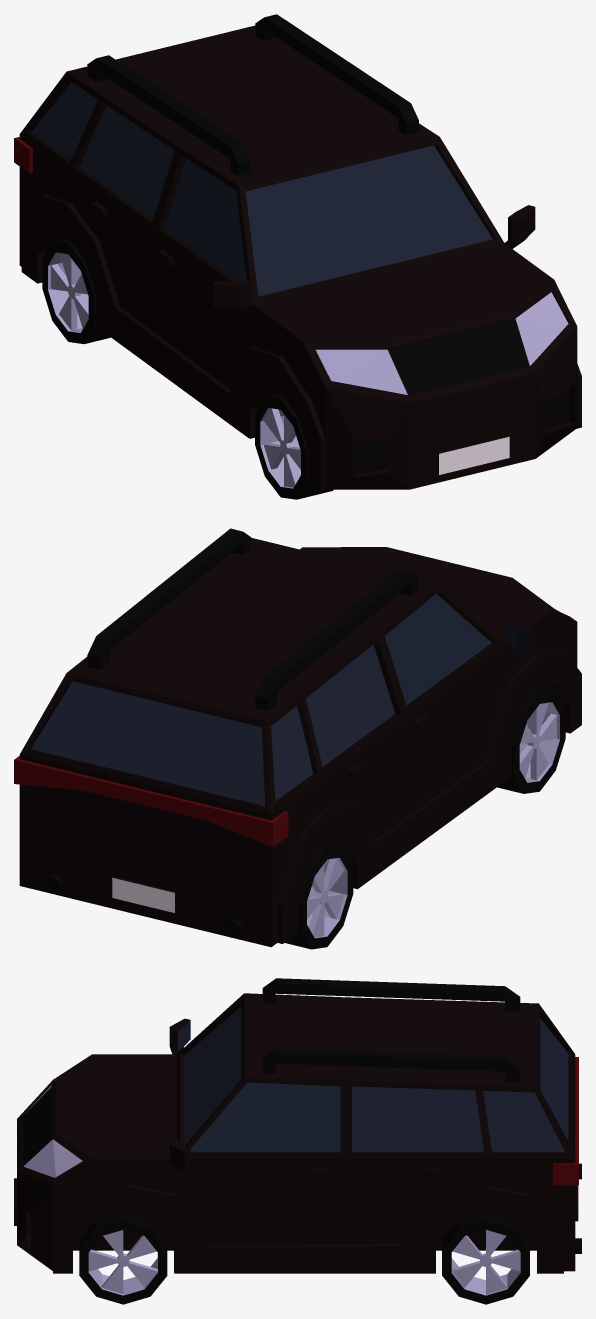
File: suv.glb
3 views of the same model, one above another, from view 1: azimuth 30°, elevation 25°; view 2: azimuth 150°, elevation 25°; view 3: azimuth 270°, elevation 25° (orthographic). The views are drawn at different scales.
Parts seen in each view (by area): view 1: SUV, SUV_wheel_front_right, SUV_wheel_rear_right; view 2: SUV, SUV_wheel_rear_right, SUV_wheel_front_right; view 3: SUV, SUV_wheel_front_left, SUV_wheel_rear_left.
Part boxes in pixels (<box>): SUV: <box>14,14,581,490</box>; SUV_wheel_front_right: <box>255,393,333,499</box>; SUV_wheel_rear_right: <box>42,237,110,343</box>; SUV: <box>14,528,581,947</box>; SUV_wheel_rear_right: <box>285,843,353,949</box>; SUV_wheel_front_right: <box>497,687,565,793</box>; SUV: <box>14,978,581,1273</box>; SUV_wheel_front_left: <box>79,1215,167,1304</box>; SUV_wheel_rear_left: <box>442,1215,529,1304</box>.
Size of the model in its own units: 2.57 by 2.1 by 4.6.
